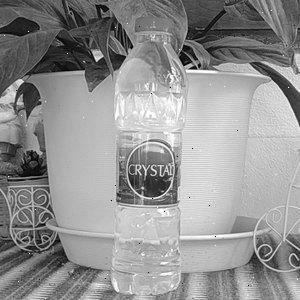bottle: (101, 8, 204, 296)
